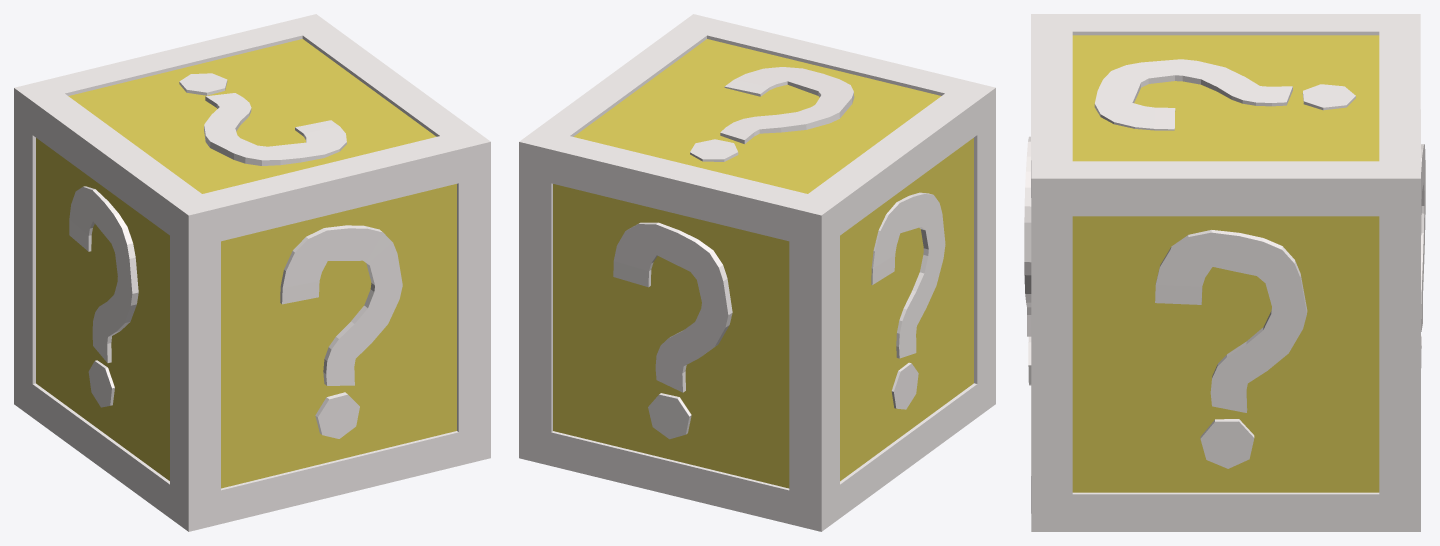
3 views of the same model, side by side, from view 1: azimuth 30°, elevation 25°; view 2: azimuth 150°, elevation 25°; view 3: azimuth 270°, elevation 25° (orthographic). The views are drawn at different scales.
Visible parts, largest first — view 1: Cube.007; view 2: Cube.007; view 3: Cube.007.
Part boxes in pixels (bbox=[...]): Cube.007: bbox=[14, 14, 490, 531]; Cube.007: bbox=[519, 14, 995, 531]; Cube.007: bbox=[1024, 14, 1425, 531].
Size of the model in its own units: 1.43 by 1.42 by 1.43.
